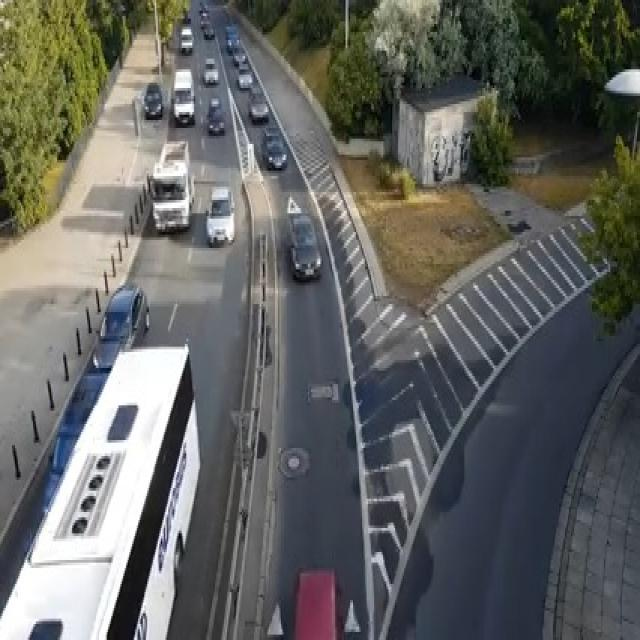bus: (0, 339, 200, 637)
car: (92, 280, 148, 371), (287, 213, 321, 280), (204, 184, 234, 245), (172, 67, 196, 125), (260, 125, 287, 168), (141, 80, 164, 117), (248, 82, 269, 122), (206, 96, 224, 133), (203, 56, 218, 85), (236, 61, 252, 88), (224, 24, 239, 51), (179, 24, 192, 53), (232, 43, 246, 64), (200, 10, 209, 27), (203, 24, 213, 37), (182, 8, 191, 21), (198, 0, 207, 13)
truck: (146, 139, 195, 232)
